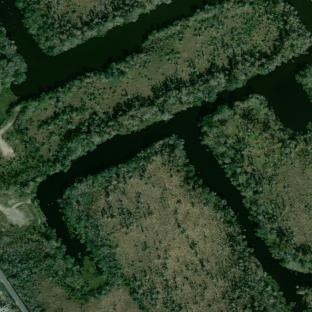Floresta: (17, 0, 312, 197), (34, 148, 274, 312), (218, 111, 312, 223), (12, 0, 169, 53), (265, 226, 305, 266), (296, 64, 312, 135)
